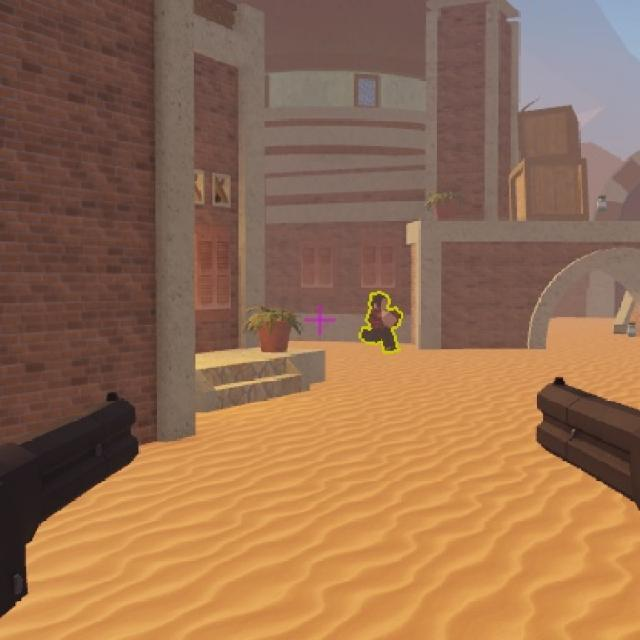player: (367, 280, 399, 350)
